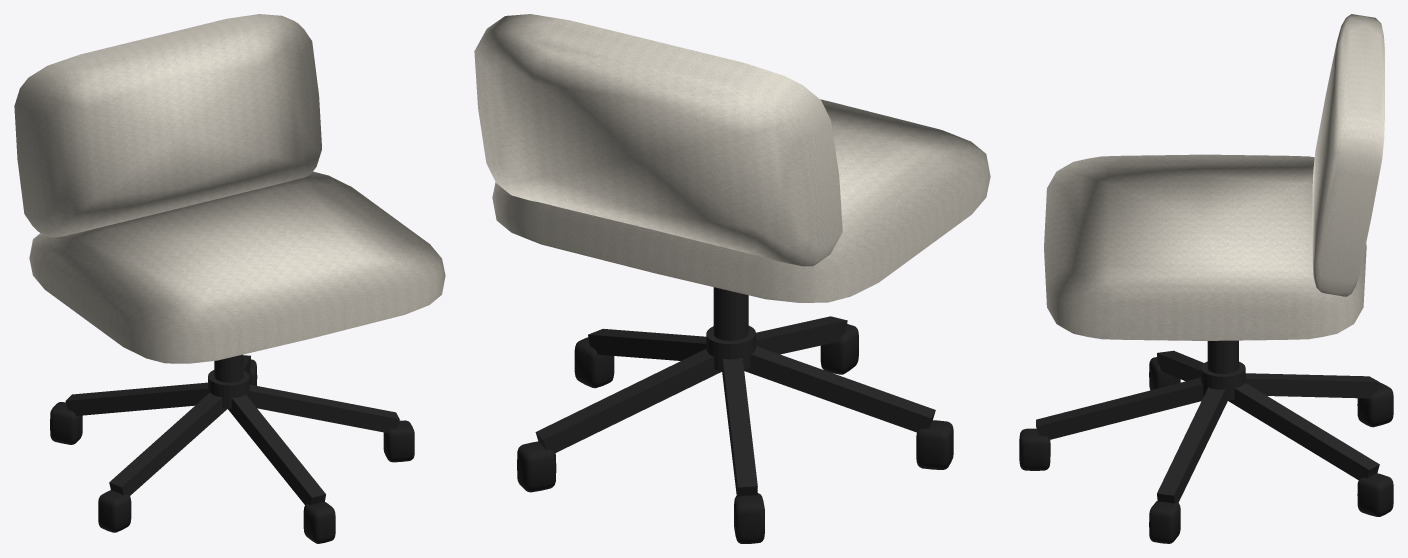
The picture shows the model from 3 angles, left to right: view 1: azimuth 30°, elevation 25°; view 2: azimuth 150°, elevation 25°; view 3: azimuth 270°, elevation 25°; orthographic projection. The views are drawn at different scales.
Parts seen in each view (by area): view 1: 1 seat, 2 backrest, 11 base_spoke_5, 8 base_spoke_2, 7 base_spoke_1, 10 base_spoke_4, 16 wheel_5, 12 wheel_1, 15 wheel_4, 13 wheel_2, 6 base_hub, 5 gas_lift; view 2: 2 backrest, 1 seat, 9 base_spoke_3, 11 base_spoke_5, 10 base_spoke_4, 8 base_spoke_2, 7 base_spoke_1, 5 gas_lift, 14 wheel_3, 16 wheel_5, 13 wheel_2, 15 wheel_4 (+2 smaller); view 3: 1 seat, 2 backrest, 9 base_spoke_3, 7 base_spoke_1, 8 base_spoke_2, 10 base_spoke_4, 14 wheel_3, 13 wheel_2, 12 wheel_1, 15 wheel_4, 5 gas_lift, 11 base_spoke_5 (+2 smaller).
Boxes of the visible parts, <box> form: 1 seat: <box>29,171,445,363</box>; 2 backrest: <box>14,14,321,237</box>; 11 base_spoke_5: <box>109,392,227,495</box>; 8 base_spoke_2: <box>249,384,399,433</box>; 7 base_spoke_1: <box>228,394,325,505</box>; 10 base_spoke_4: <box>65,382,207,415</box>; 16 wheel_5: <box>98,490,131,532</box>; 12 wheel_1: <box>303,502,335,543</box>; 15 wheel_4: <box>50,402,82,444</box>; 13 wheel_2: <box>383,420,414,462</box>; 6 base_hub: <box>208,370,249,408</box>; 5 gas_lift: <box>214,354,243,382</box>; 2 backrest: <box>474,14,842,266</box>; 1 seat: <box>492,99,990,302</box>; 9 base_spoke_3: <box>535,349,721,452</box>; 11 base_spoke_5: <box>744,346,935,432</box>; 10 base_spoke_4: <box>722,357,757,496</box>; 8 base_spoke_2: <box>588,328,706,360</box>; 7 base_spoke_1: <box>756,316,847,354</box>; 5 gas_lift: <box>713,287,748,340</box>; 14 wheel_3: <box>517,441,556,492</box>; 16 wheel_5: <box>916,420,953,469</box>; 13 wheel_2: <box>574,337,614,388</box>; 15 wheel_4: <box>734,493,764,543</box>; 1 seat: <box>1044,154,1366,340</box>; 2 backrest: <box>1312,14,1384,296</box>; 9 base_spoke_3: <box>1228,382,1379,479</box>; 7 base_spoke_1: <box>1036,377,1203,439</box>; 8 base_spoke_2: <box>1157,387,1227,503</box>; 10 base_spoke_4: <box>1245,373,1379,398</box>; 14 wheel_3: <box>1357,473,1393,516</box>; 13 wheel_2: <box>1149,501,1180,543</box>; 12 wheel_1: <box>1019,428,1050,470</box>; 15 wheel_4: <box>1357,382,1393,427</box>; 5 gas_lift: <box>1207,340,1238,373</box>; 11 base_spoke_5: <box>1157,350,1203,381</box>.
Bounding box in the file's own units: 0.85 × 1 × 0.85.
Materials: 4 (1 with a texture image).
